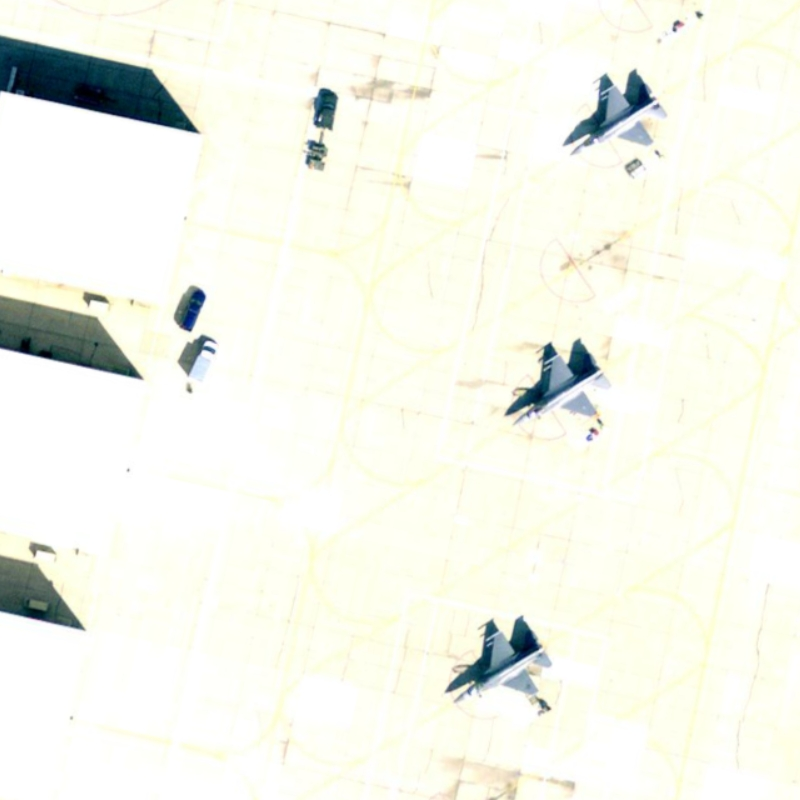A5: (449, 615, 555, 714), (561, 72, 672, 164), (506, 339, 615, 432)
